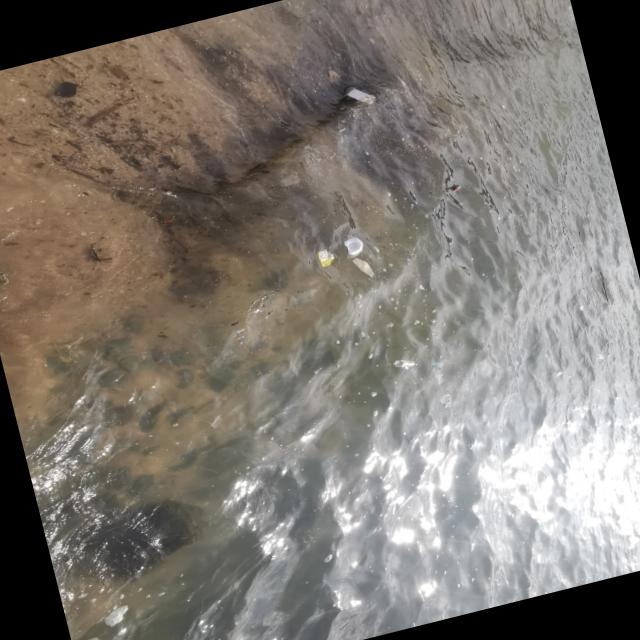foam: (342, 84, 377, 112), (341, 234, 367, 260)
plastic bottle: (392, 357, 418, 373)
